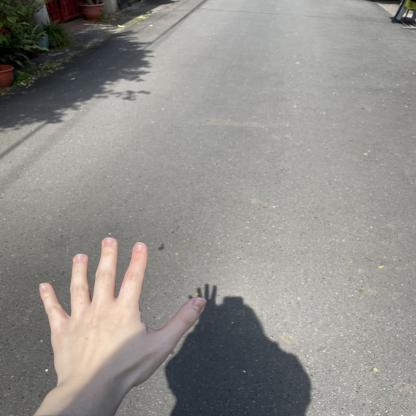bare_hand: (32, 231, 214, 416)
